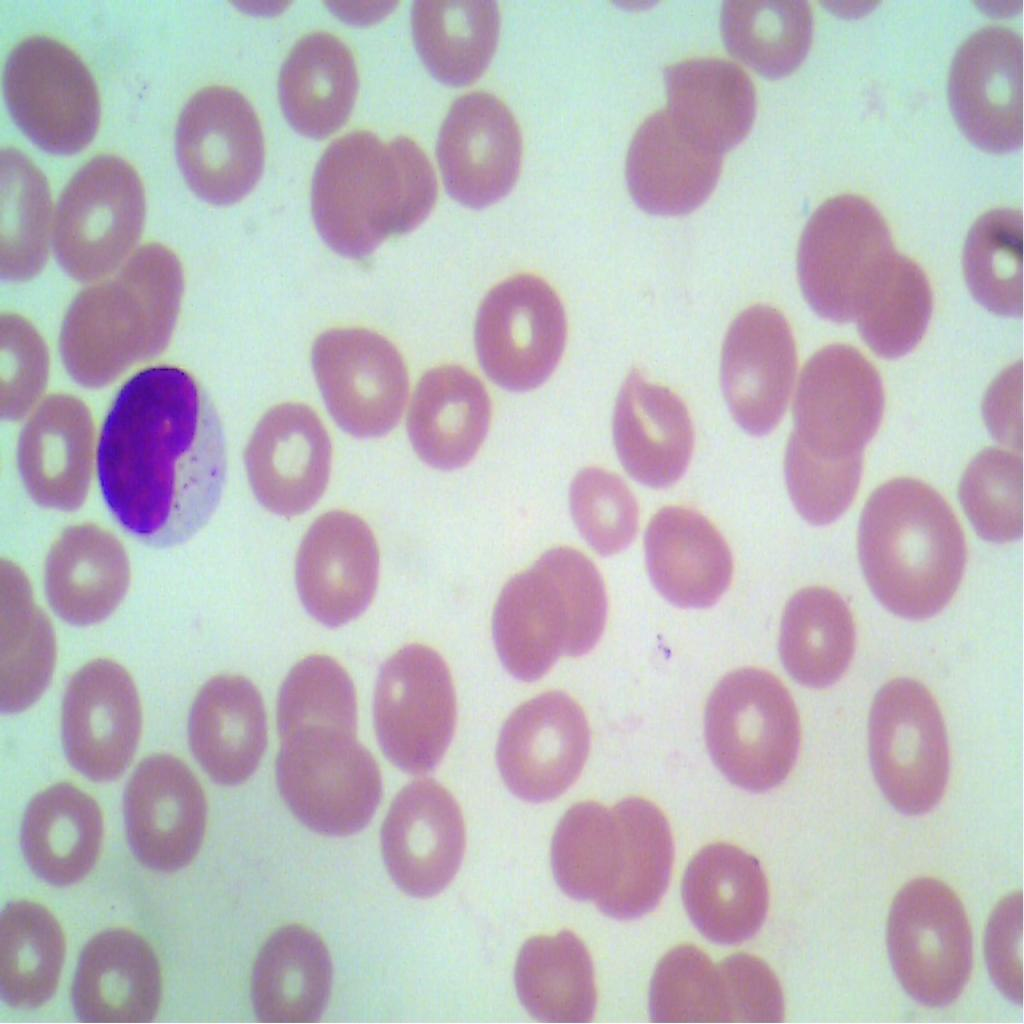Eritrosit: (852, 477, 970, 625), (694, 657, 802, 798), (879, 861, 982, 1005), (433, 82, 539, 215), (163, 79, 270, 210), (50, 141, 150, 280), (117, 744, 219, 877), (794, 191, 897, 322), (0, 32, 108, 155), (868, 669, 954, 823), (604, 364, 698, 503), (304, 321, 410, 444), (472, 268, 572, 398), (368, 641, 463, 776), (633, 498, 742, 615), (380, 776, 477, 906), (279, 722, 386, 839), (302, 120, 393, 255), (237, 398, 342, 515), (15, 772, 110, 900), (273, 25, 368, 148), (182, 662, 273, 788), (653, 44, 757, 154), (494, 687, 596, 799), (940, 25, 1023, 162), (717, 296, 794, 442), (682, 832, 778, 948), (790, 340, 886, 456), (622, 108, 722, 218), (399, 0, 512, 94), (12, 391, 100, 511), (63, 922, 167, 1023), (293, 506, 382, 624), (705, 0, 820, 91), (63, 655, 145, 782), (850, 254, 944, 364), (596, 788, 678, 914), (40, 518, 138, 622), (779, 411, 865, 527), (275, 652, 359, 770), (50, 282, 147, 384), (774, 577, 860, 692), (518, 912, 607, 1023), (523, 538, 607, 655), (407, 364, 493, 478), (252, 915, 338, 1023), (108, 234, 182, 357), (0, 891, 73, 1011), (0, 141, 57, 288), (487, 572, 566, 678), (957, 195, 1023, 318), (548, 795, 622, 901), (566, 461, 642, 562), (650, 934, 735, 1023), (365, 130, 437, 235), (955, 434, 1023, 544), (0, 314, 58, 418)
Limfosit: (90, 351, 232, 555)
